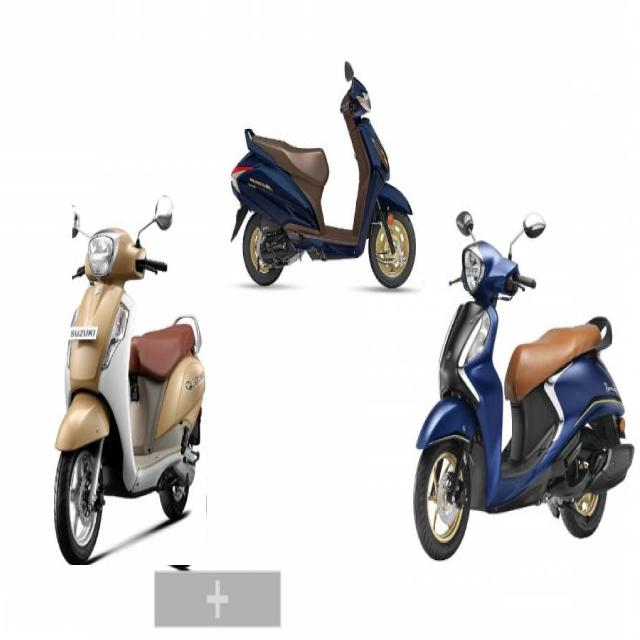motorcycle: (414, 211, 634, 560), (54, 196, 206, 565), (231, 62, 415, 288)
